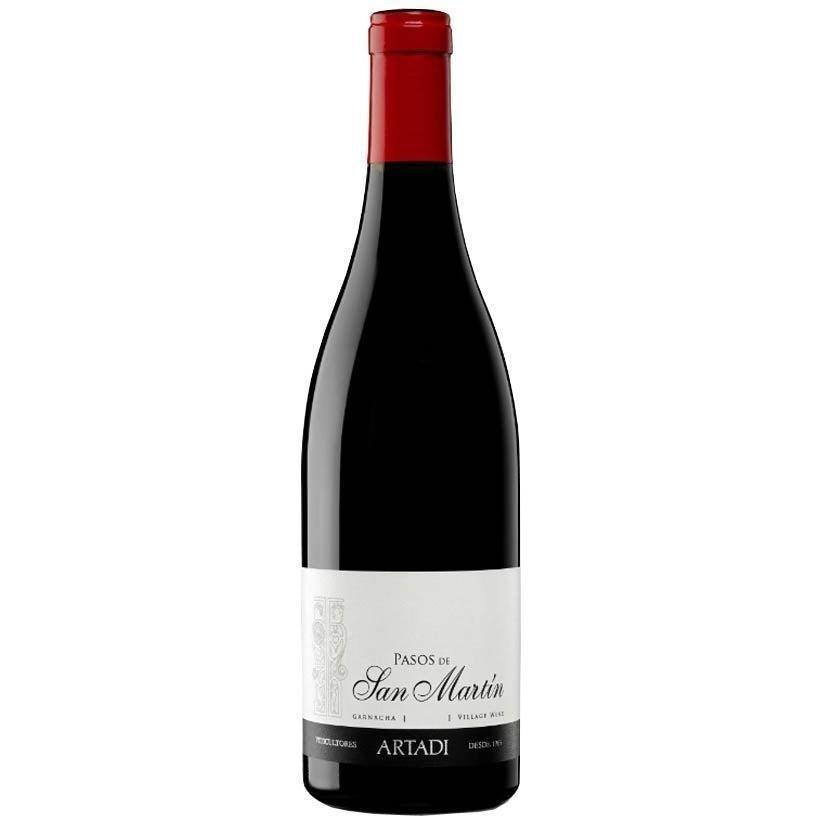bottle-glass: (287, 0, 530, 819)
